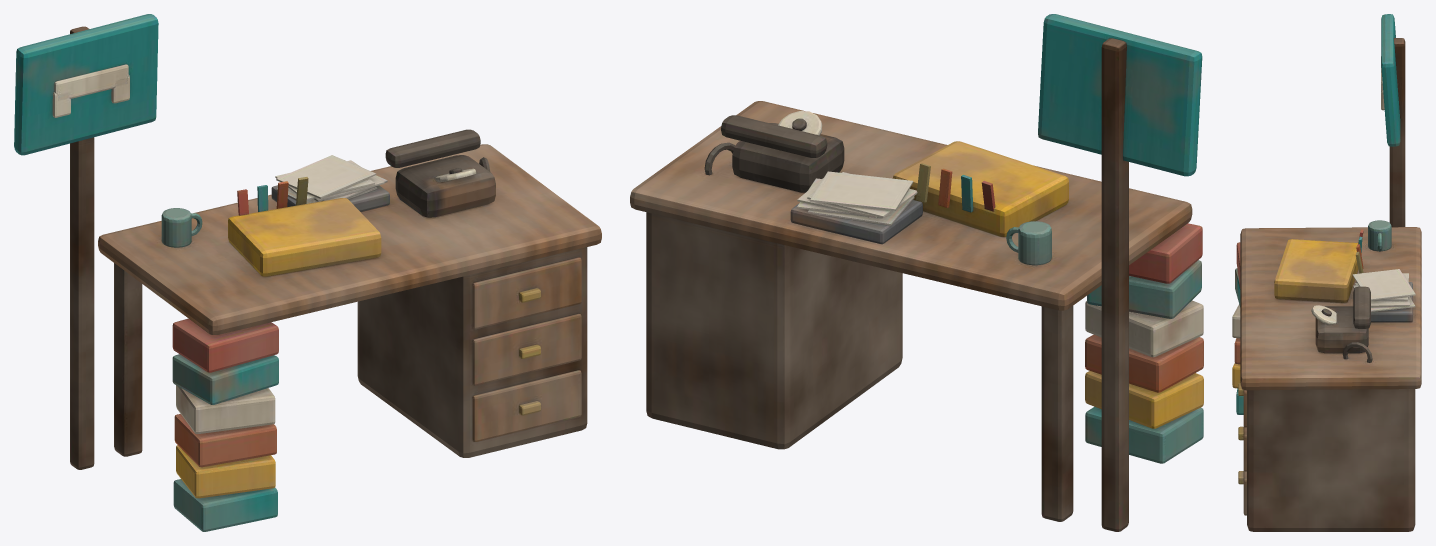
The model's file is order_desk.glb.
The picture shows the model from 3 angles, left to right: view 1: azimuth 30°, elevation 25°; view 2: azimuth 150°, elevation 25°; view 3: azimuth 270°, elevation 25°; orthographic projection. The views are drawn at different scales.
Parts seen in each view (by area): view 1: OrderDesk_Mesh; view 2: OrderDesk_Mesh; view 3: OrderDesk_Mesh.
Part boxes in pixels (x1=…): OrderDesk_Mesh: x1=14, y1=14, x2=601, y2=531; OrderDesk_Mesh: x1=630, y1=14, x2=1203, y2=531; OrderDesk_Mesh: x1=1232, y1=14, x2=1421, y2=531.
Size of the model in its own units: 2 by 1.71 by 0.8577.
1 material, 1 textured.
